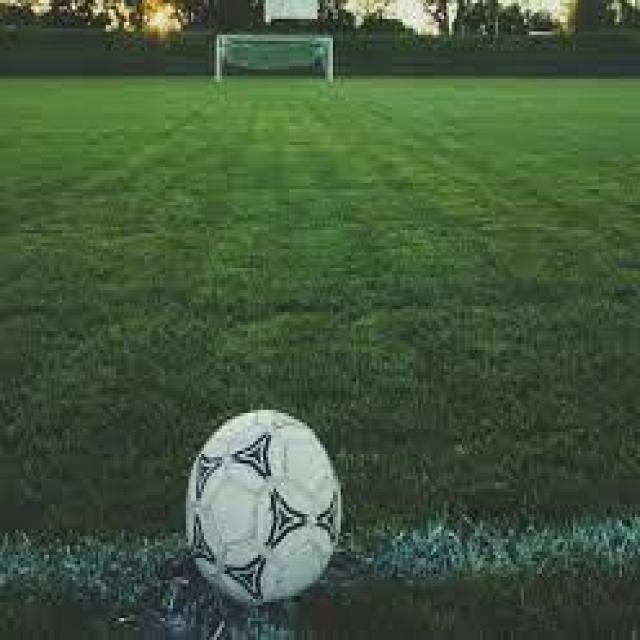Soccer Ball: (186, 410, 340, 605)
